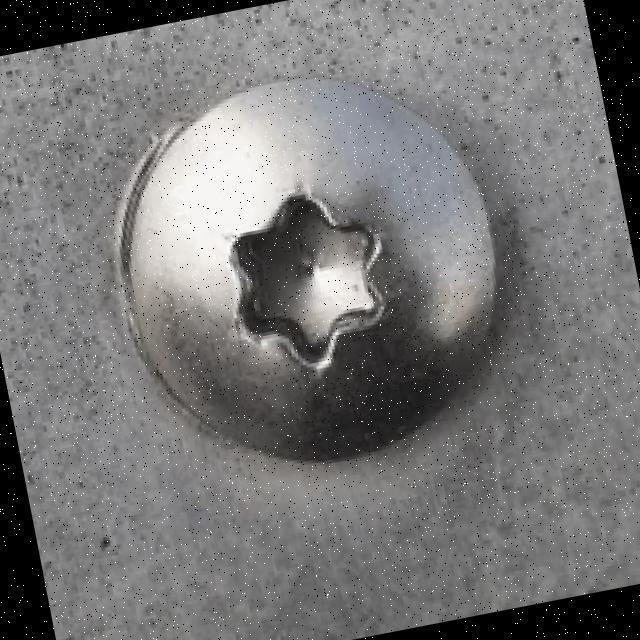Torx: (98, 49, 530, 494)
